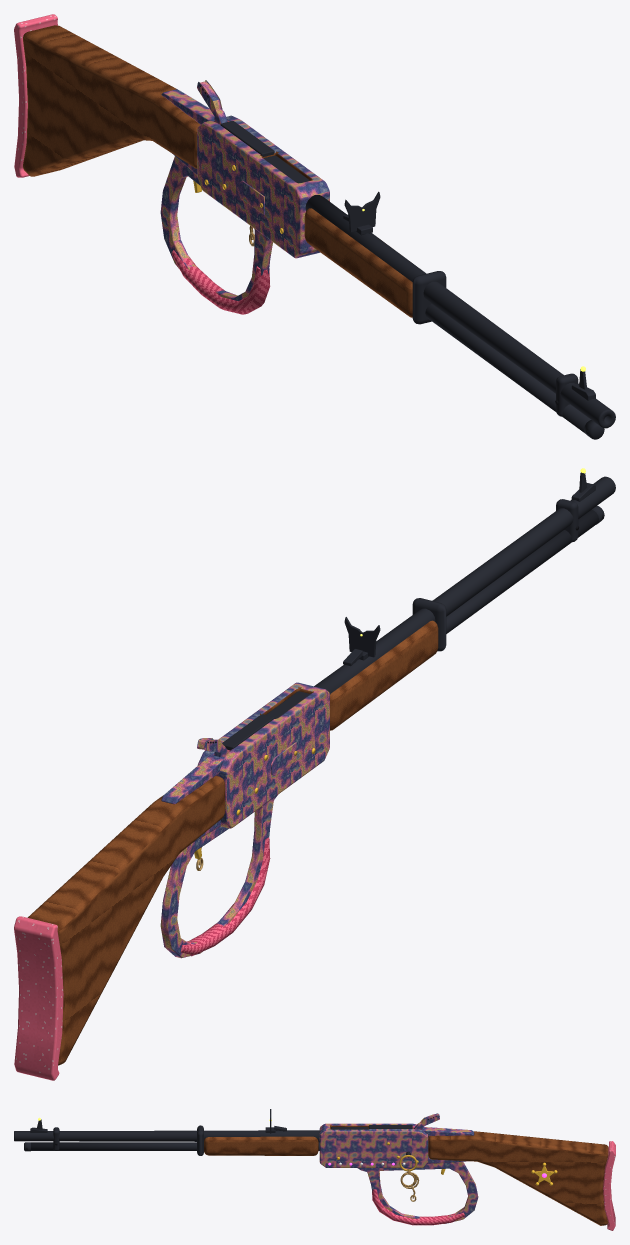
Rendered from w_lever.glb.
3 renders of one model, top to bottom at view 1: azimuth 30°, elevation 25°; view 2: azimuth 150°, elevation 25°; view 3: azimuth 270°, elevation 25°, orthographic. The views are drawn at different scales.
Parts seen in each view (by area): view 1: lever_body_wzA__lv_walnut__p7a411c, lever_body_wzB__lv_blued__m22252e, lever_body_wzA__lv_case__s906881, lever_body_wzA__lv_forend__p7a411c, lever_wzB__lv_case__s906881, lever_wzA__lv_leather__pe85477, lever_body_wzA__lv_pink__pfd6d8c, lhammer_wzB__lv_case__s906881; view 2: lever_body_wzA__lv_walnut__p7a411c, lever_body_wzB__lv_blued__m22252e, lever_body_wzA__lv_case__s906881, lever_body_wzA__lv_pink__pfd6d8c, lever_body_wzA__lv_forend__p7a411c, lever_wzB__lv_case__s906881, lever_wzA__lv_leather__pe85477; view 3: lever_body_wzA__lv_walnut__p7a411c, lever_body_wzB__lv_blued__m22252e, lever_body_wzA__lv_case__s906881, lever_body_wzA__lv_forend__p7a411c, lever_wzB__lv_case__s906881, lever_wzA__lv_leather__pe85477, lever_body_wzA__lv_pink__pfd6d8c, lever_body_wzN__lv_gold__sffc83a, lever_body_wzN__lv_rope__pb99258, lhammer_wzB__lv_case__s906881.
Part boxes in pixels (x1,y1,x2,y2): lever_body_wzA__lv_walnut__p7a411c: (23,25,200,176); lever_body_wzB__lv_blued__m22252e: (220,121,615,439); lever_body_wzA__lv_case__s906881: (161,89,329,258); lever_body_wzA__lv_forend__p7a411c: (260,151,412,317); lever_wzB__lv_case__s906881: (160,156,272,301); lever_wzA__lv_leather__pe85477: (171,250,270,314); lever_body_wzA__lv_pink__pfd6d8c: (14,14,229,177); lhammer_wzB__lv_case__s906881: (197,80,227,124); lever_body_wzA__lv_walnut__p7a411c: (27,776,224,1065); lever_body_wzB__lv_blued__m22252e: (222,472,615,750); lever_body_wzA__lv_case__s906881: (161,682,329,842); lever_body_wzA__lv_pink__pfd6d8c: (14,749,230,1080); lever_body_wzA__lv_forend__p7a411c: (260,620,438,730); lever_wzB__lv_case__s906881: (160,795,277,958); lever_wzA__lv_leather__pe85477: (180,837,270,956); lever_body_wzA__lv_walnut__p7a411c: (428,1131,608,1225); lever_body_wzB__lv_blued__m22252e: (14,1109,412,1157); lever_body_wzA__lv_case__s906881: (319,1123,474,1167); lever_body_wzA__lv_forend__p7a411c: (204,1125,368,1155); lever_wzB__lv_case__s906881: (357,1161,478,1223); lever_wzA__lv_leather__pe85477: (372,1189,465,1225); lever_body_wzA__lv_pink__pfd6d8c: (412,1126,615,1230); lever_body_wzN__lv_gold__sffc83a: (337,1142,557,1185); lever_body_wzN__lv_rope__pb99258: (400,1169,419,1201); lhammer_wzB__lv_case__s906881: (413,1113,439,1129).
Size of the model in its own units: 0.0574 by 0.2479 by 1.2.
13 materials, 6 textured.
